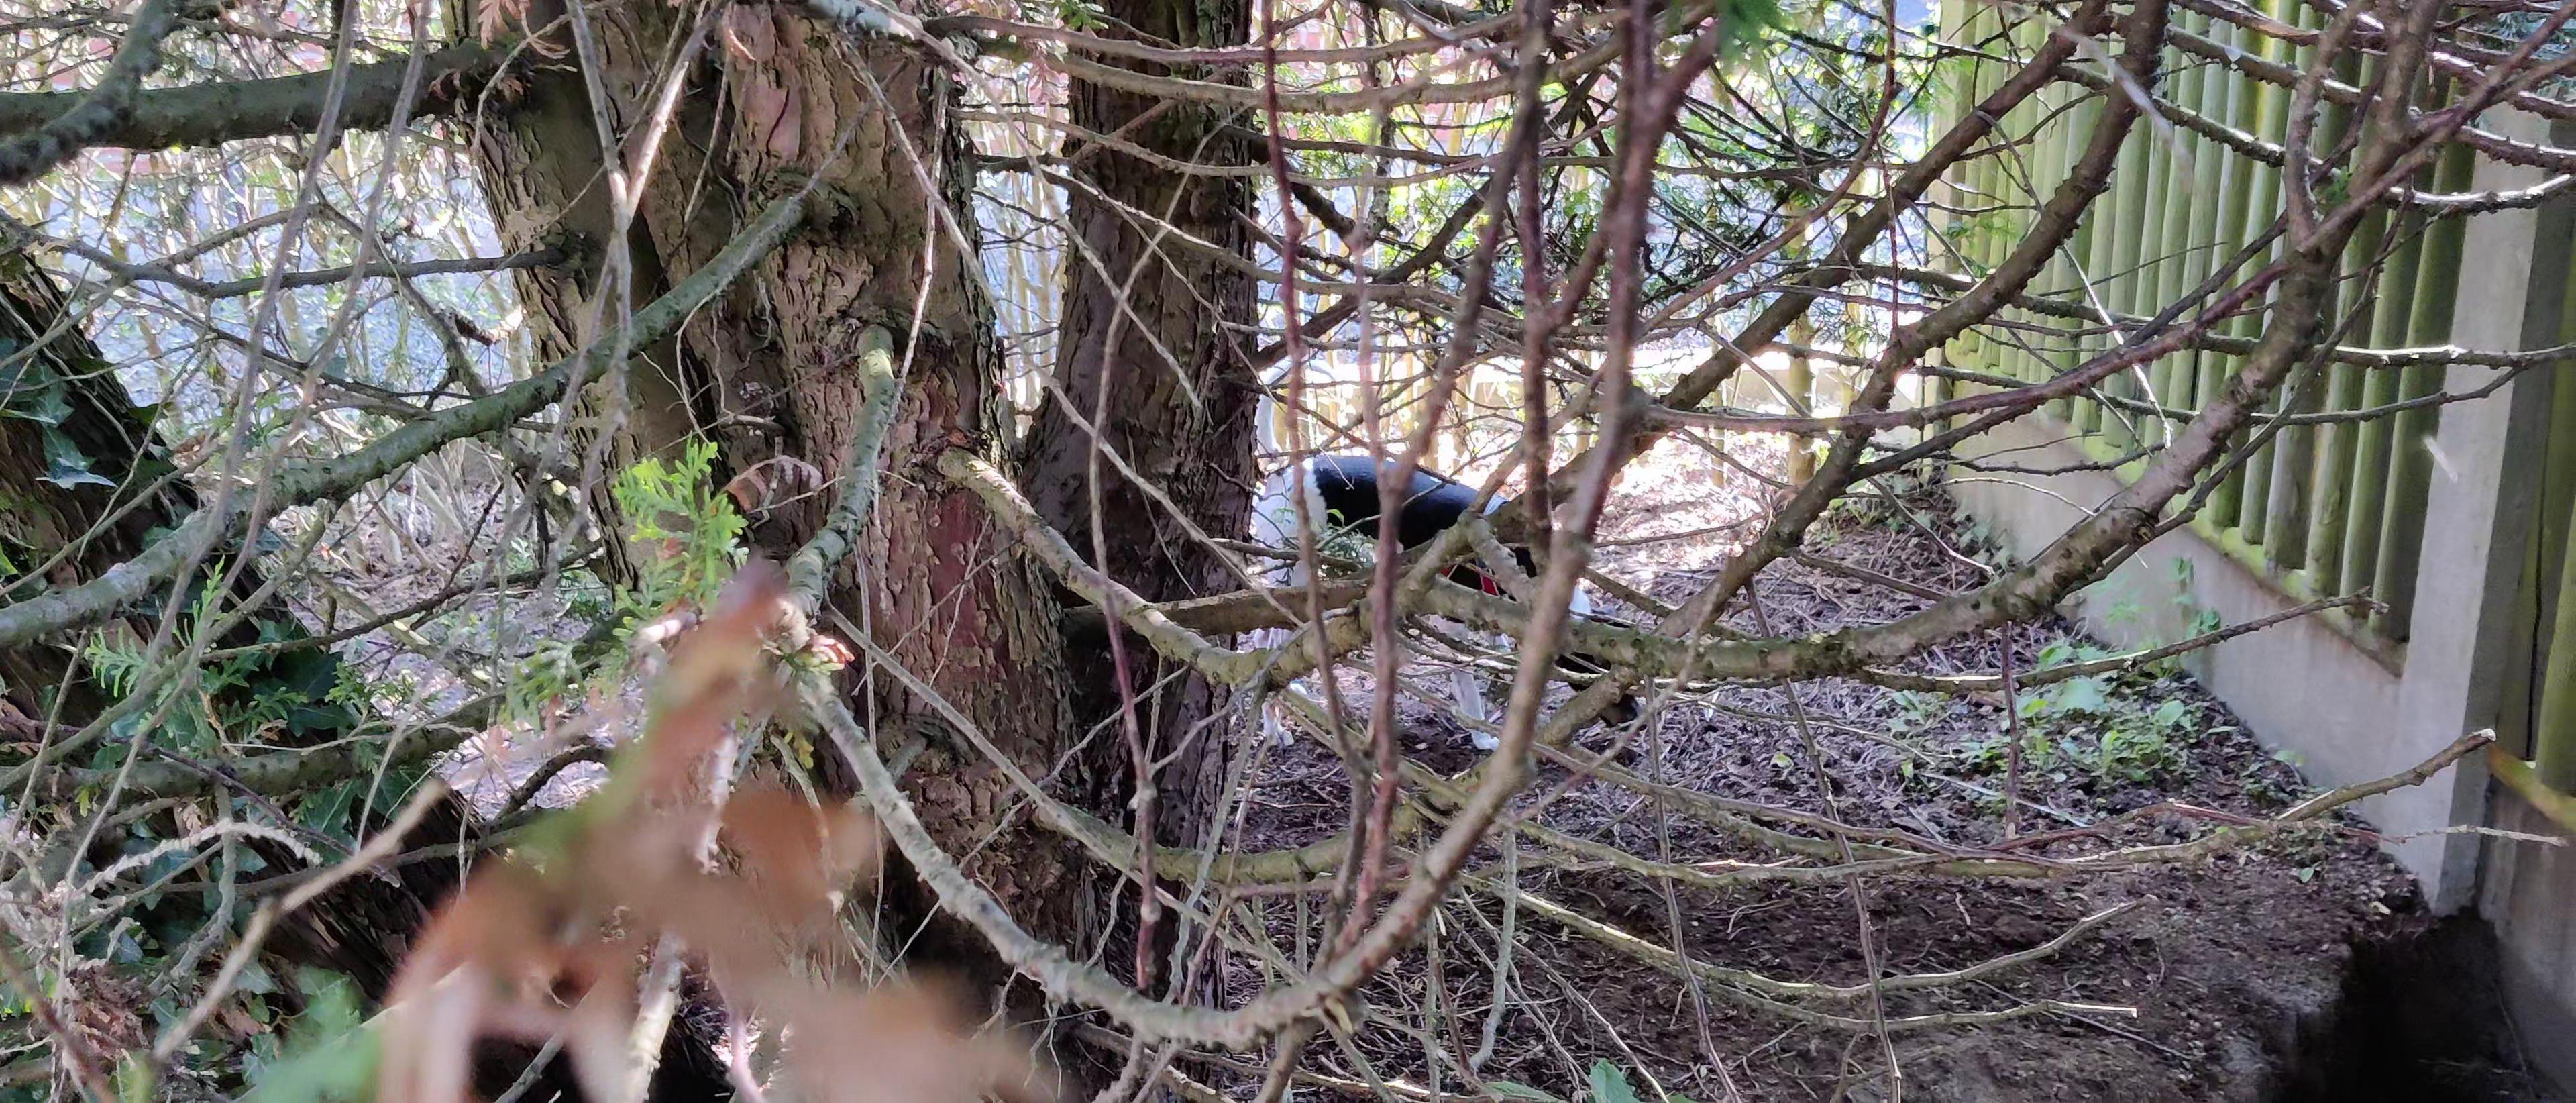Dog: (1242, 344, 1661, 755)
